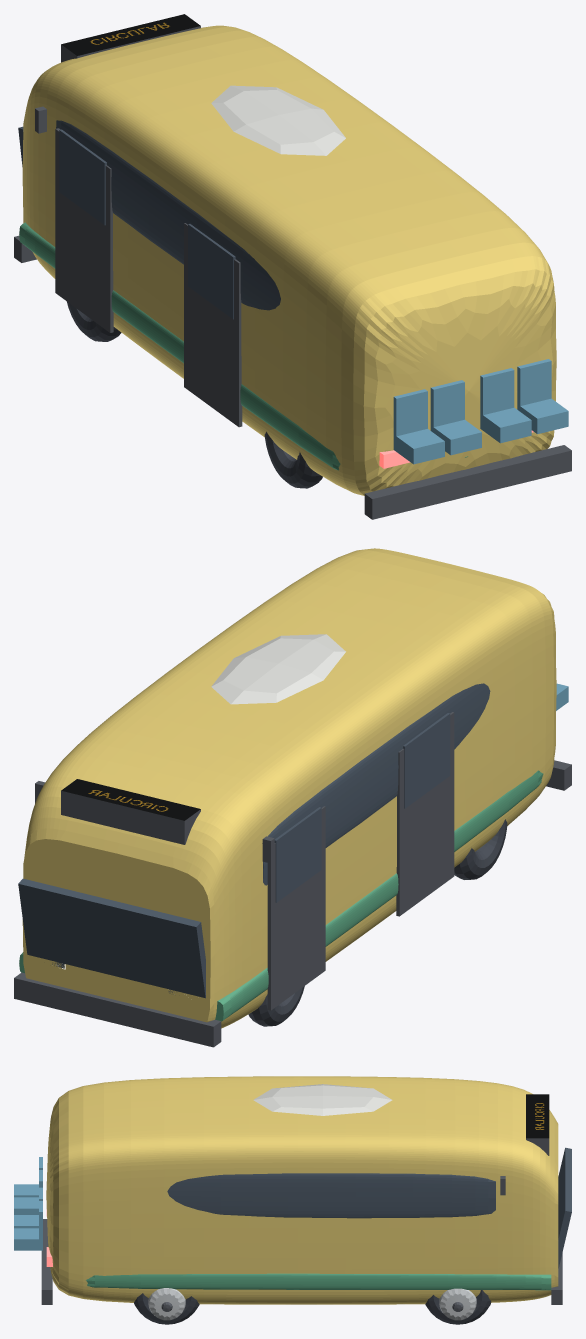
The model's file is bus_traffic.glb.
The picture shows the model from 3 angles, top to bottom: view 1: azimuth 30°, elevation 25°; view 2: azimuth 150°, elevation 25°; view 3: azimuth 270°, elevation 25°; orthographic projection. The views are drawn at different scales.
Visible parts, largest first — view 1: BusTrafego, BusWheelRL, BusWheelFL; view 2: BusTrafego, BusWheelRL, BusWheelFL; view 3: BusTrafego, BusWheelFR, BusWheelRR.
Part boxes in pixels (box(x1,y1,x2,y2)): BusTrafego: box(14, 14, 571, 519); BusWheelRL: box(264, 431, 322, 488); BusWheelFL: box(66, 301, 121, 341); BusTrafego: box(14, 548, 571, 1047); BusWheelRL: box(454, 819, 507, 879); BusWheelFL: box(248, 986, 304, 1026); BusTrafego: box(14, 1076, 571, 1304); BusWheelFR: box(425, 1288, 491, 1324); BusWheelRR: box(134, 1288, 199, 1324).
Size of the model in its own units: 2.86 by 3.13 by 8.06.
11 materials, 1 textured.
